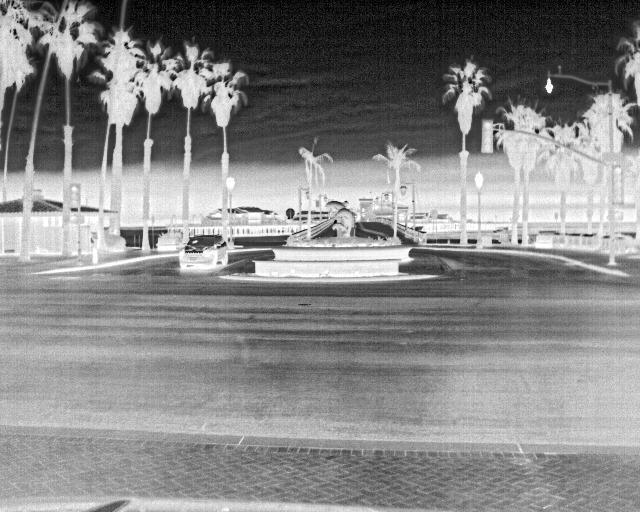car: (178, 235, 230, 270)
